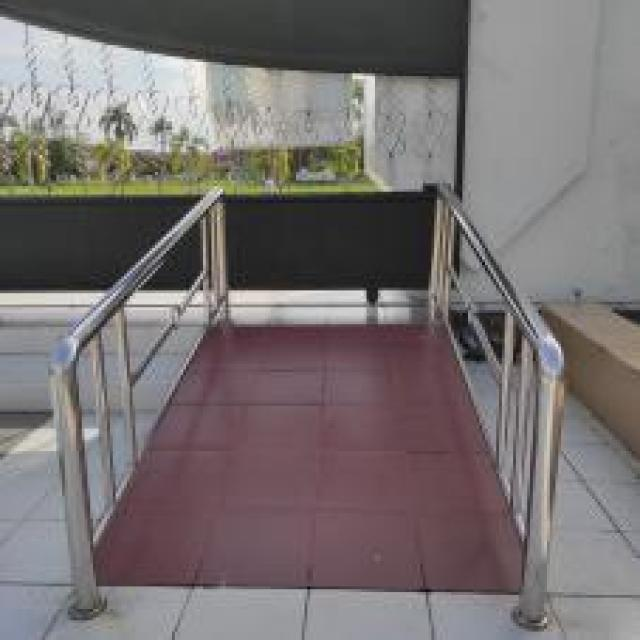upstair: (123, 321, 505, 572)
